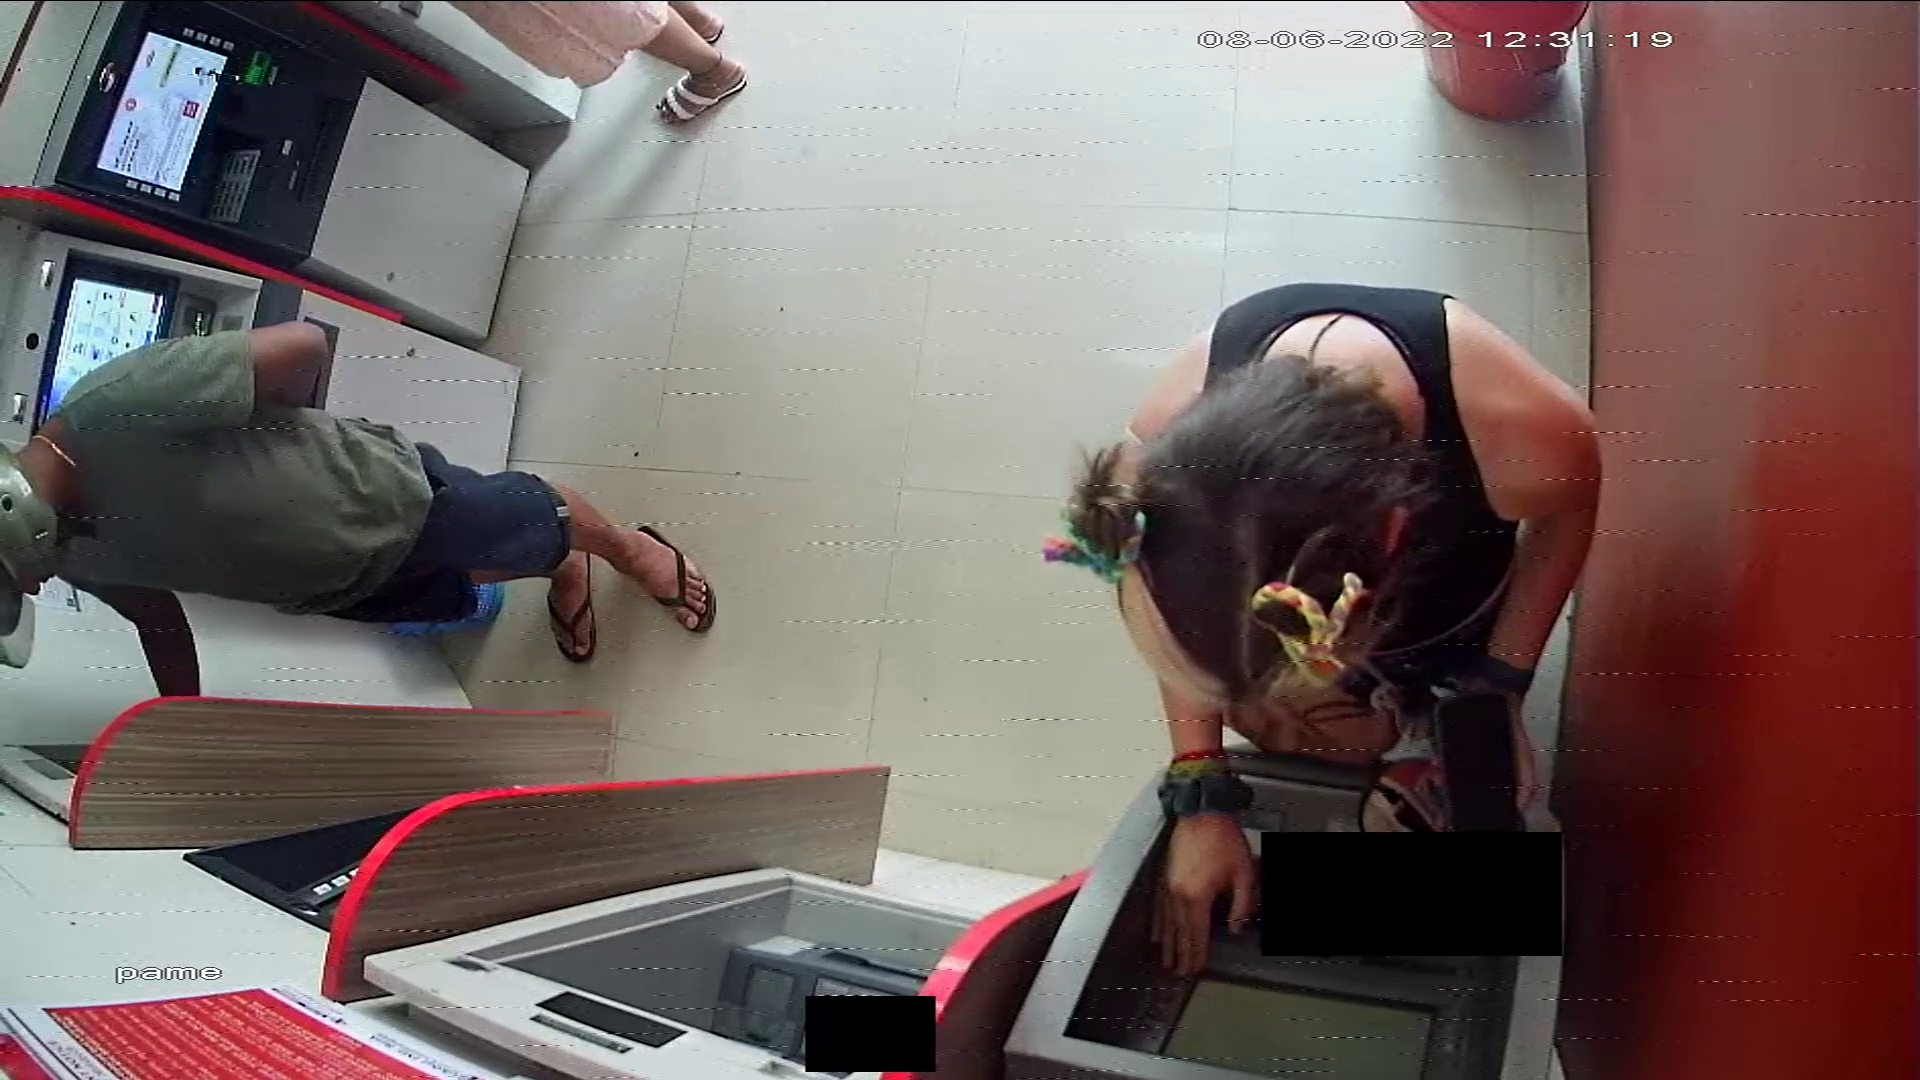helmet: (1, 433, 64, 672)
person: (1084, 282, 1601, 971), (1, 322, 719, 703), (1437, 692, 1520, 833)
